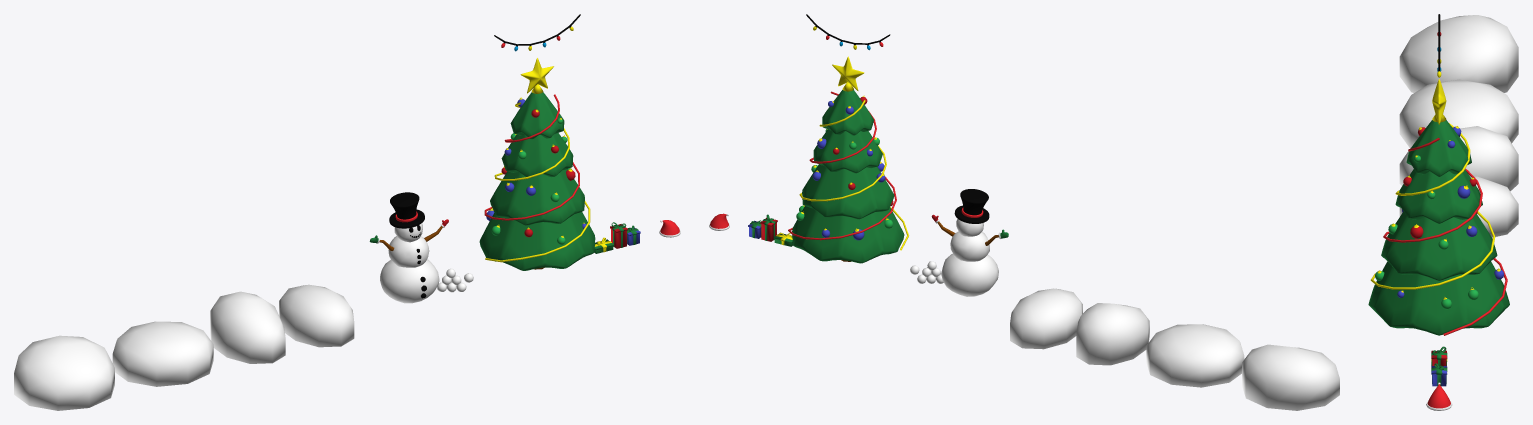
File: Christmas_tree.fbx
The picture shows the model from 3 angles, left to right: view 1: azimuth 30°, elevation 25°; view 2: azimuth 150°, elevation 25°; view 3: azimuth 270°, elevation 25°; orthographic projection. The views are drawn at different scales.
Visible parts, largest first — view 1: Tree, Snow_pile_4, Snow_pile_3, Snowman, Snow_pile_2, Snow_pile_1, Toys, Bloom_shit; view 2: Tree, Snow_pile_4, Snow_pile_3, Snowman, Snow_pile_2, Snow_pile_1, Toys, Bloom_shit; view 3: Tree, Snow_pile_4, Snow_pile_3, Snow_pile_2, Toys, Snow_pile_1, Bloom_shit, Cap, Gift_1, Gift_3, Cylinder.
Part boxes in pixels (<box>): Tree: <box>479,92,595,270</box>; Snow_pile_4: <box>14,335,114,410</box>; Snow_pile_3: <box>112,321,213,386</box>; Snowman: <box>369,192,448,303</box>; Snow_pile_2: <box>210,291,285,363</box>; Snow_pile_1: <box>279,284,354,347</box>; Toys: <box>486,58,586,244</box>; Bloom_shit: <box>484,94,590,262</box>; Tree: <box>792,90,904,263</box>; Snow_pile_4: <box>1242,344,1339,410</box>; Snow_pile_3: <box>1146,324,1244,387</box>; Snowman: <box>931,189,1008,296</box>; Snow_pile_2: <box>1076,303,1149,365</box>; Snow_pile_1: <box>1010,288,1082,349</box>; Toys: <box>796,56,893,240</box>; Bloom_shit: <box>788,91,908,250</box>; Tree: <box>1368,120,1509,335</box>; Snow_pile_4: <box>1399,15,1518,92</box>; Snow_pile_3: <box>1399,79,1518,147</box>; Snow_pile_2: <box>1399,126,1518,191</box>; Toys: <box>1375,79,1504,309</box>; Snow_pile_1: <box>1399,176,1518,237</box>; Bloom_shit: <box>1370,123,1507,335</box>; Cap: <box>1426,382,1452,410</box>; Gift_1: <box>1431,363,1447,386</box>; Gift_3: <box>1431,346,1447,366</box>; Cylinder: <box>1437,14,1441,77</box>.
Bounding box in the file's own units: 1515 × 575 × 253.
